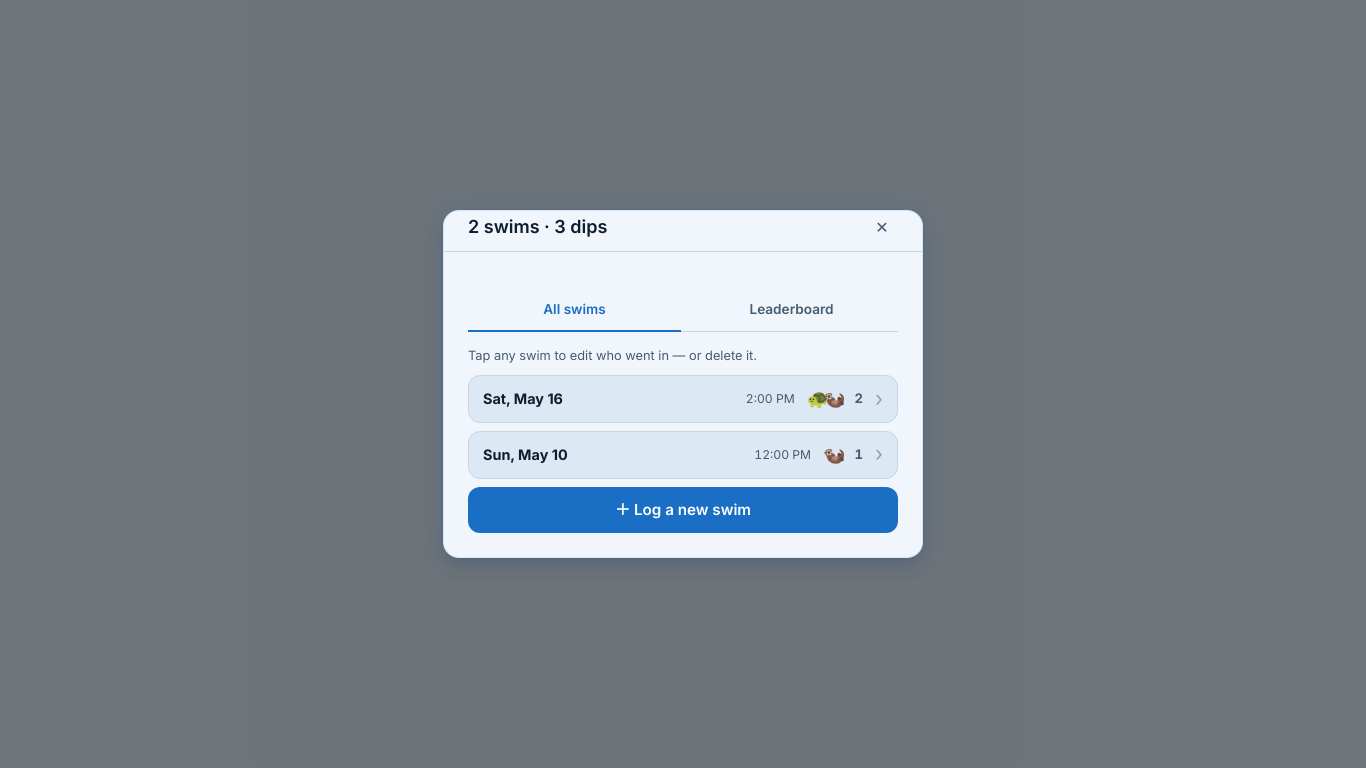
SwimHistorySheet › switches to the leaderboard tab
Click the button "Leaderboard".
click(792, 311)  # box left=685, top=290, right=898, bottom=332
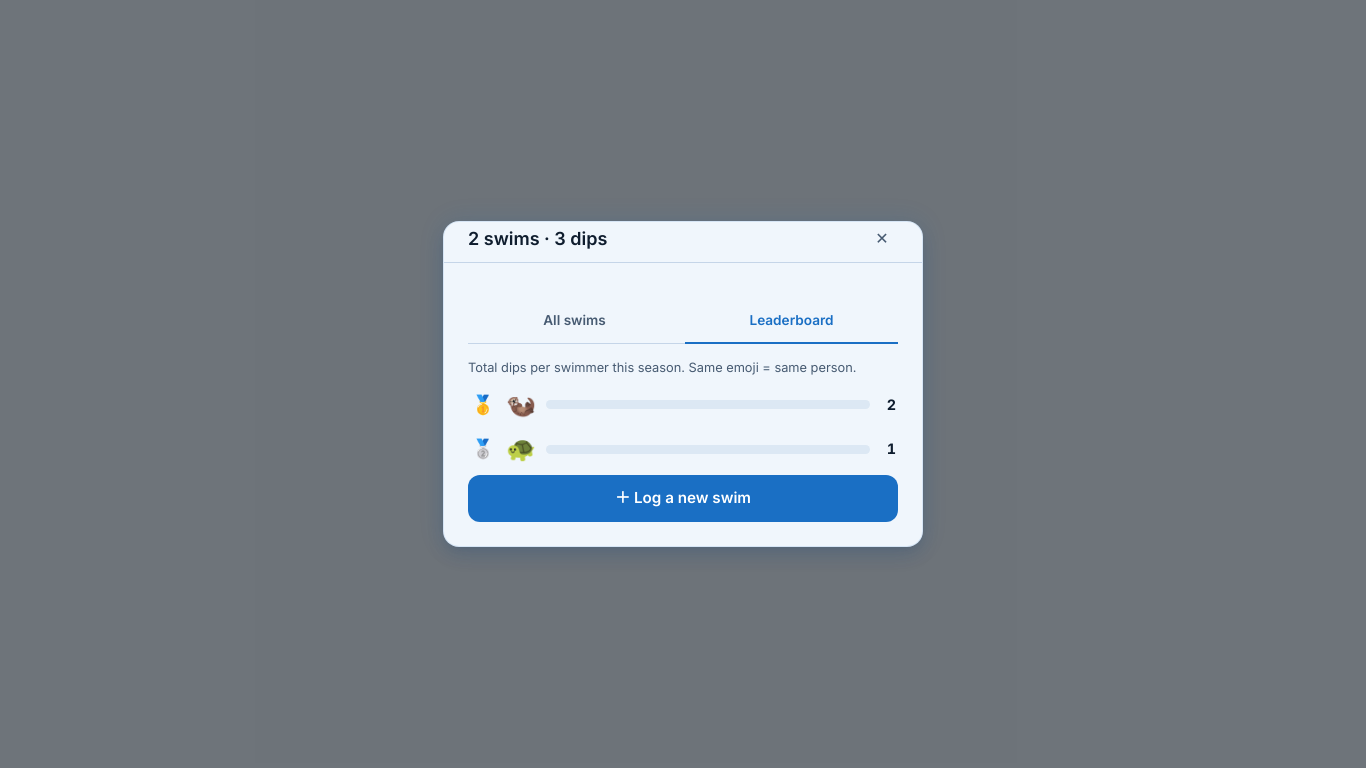
Result: the text "same person" is shown at left=468, top=360, right=856, bottom=375
